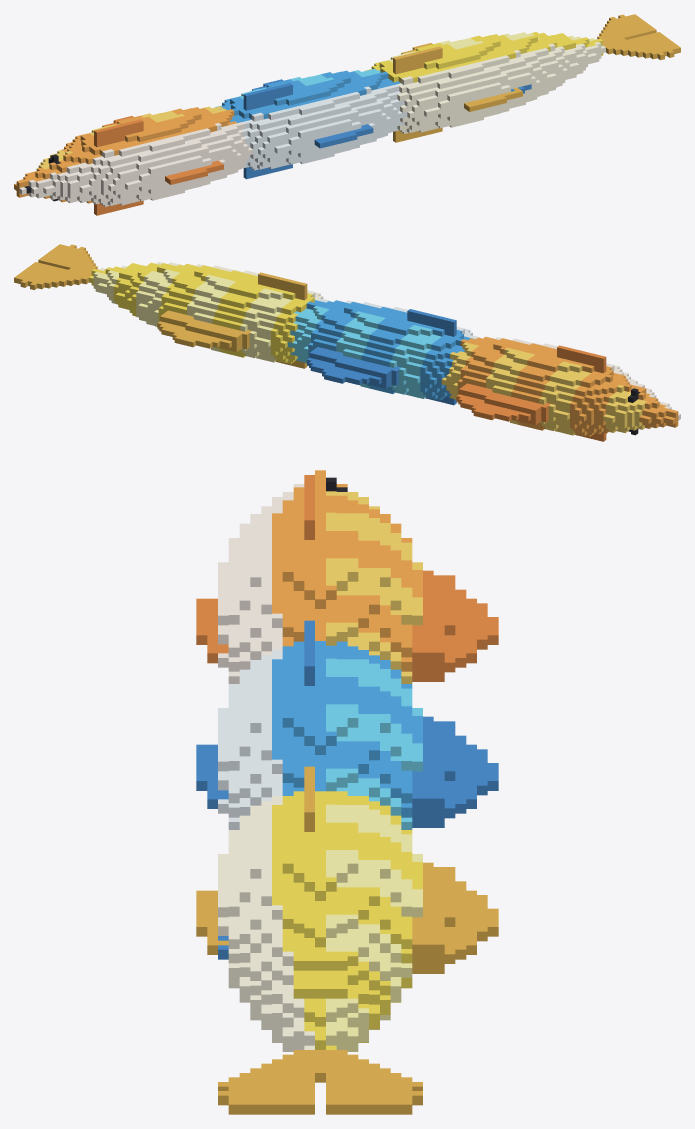
The model's file is voxel_fish_fine.glb.
3 renders of one model, top to bottom at view 1: azimuth 30°, elevation 25°; view 2: azimuth 150°, elevation 25°; view 3: azimuth 270°, elevation 25°, orthographic. The views are drawn at different scales.
Visible parts, largest first — view 1: GEO-orange-belly, GEO-yellow-belly, GEO-blue-belly, GEO-yellow-fin, GEO-orange-body, GEO-yellow-body, GEO-blue-body, GEO-blue-fin, GEO-orange-fin, GEO-orange-stripe, GEO-yellow-stripe, GEO-blue-stripe; view 2: GEO-orange-body, GEO-yellow-body, GEO-blue-body, GEO-yellow-fin, GEO-orange-stripe, GEO-yellow-stripe, GEO-blue-stripe, GEO-orange-fin, GEO-blue-fin, GEO-orange-belly, GEO-yellow-belly; view 3: GEO-yellow-body, GEO-yellow-fin, GEO-orange-body, GEO-blue-body, GEO-yellow-belly, GEO-yellow-stripe, GEO-blue-fin, GEO-orange-fin, GEO-orange-belly, GEO-blue-belly, GEO-orange-stripe, GEO-blue-stripe.
Part boxes in pixels (<box>): GEO-orange-belly: <box>19,122,253,206</box>; GEO-yellow-belly: <box>397,42,605,133</box>; GEO-blue-belly: <box>241,84,407,170</box>; GEO-yellow-fin: <box>390,14,680,142</box>; GEO-orange-body: <box>14,107,237,204</box>; GEO-yellow-body: <box>365,32,603,131</box>; GEO-blue-body: <box>215,70,400,168</box>; GEO-blue-fin: <box>243,79,531,179</box>; GEO-orange-fin: <box>91,116,223,215</box>; GEO-orange-stripe: <box>36,106,226,170</box>; GEO-yellow-stripe: <box>384,32,595,62</box>; GEO-blue-stripe: <box>234,68,380,99</box>; GEO-orange-body: <box>457,336,678,436</box>; GEO-yellow-body: <box>89,262,314,363</box>; GEO-blue-body: <box>306,300,475,400</box>; GEO-yellow-fin: <box>14,244,307,368</box>; GEO-orange-stripe: <box>441,342,647,435</box>; GEO-yellow-stripe: <box>93,269,292,362</box>; GEO-blue-stripe: <box>287,306,441,398</box>; GEO-orange-fin: <box>456,345,606,441</box>; GEO-blue-fin: <box>307,309,456,405</box>; GEO-orange-belly: <box>472,336,680,420</box>; GEO-yellow-belly: <box>99,262,329,300</box>; GEO-yellow-body: <box>272,791,422,1049</box>; GEO-yellow-fin: <box>196,766,498,1114</box>; GEO-orange-body: <box>272,470,422,671</box>; GEO-blue-body: <box>272,641,422,817</box>; GEO-yellow-belly: <box>218,796,314,1051</box>; GEO-yellow-stripe: <box>326,804,422,1051</box>; GEO-blue-fin: <box>196,620,498,959</box>; GEO-orange-fin: <box>196,475,498,681</box>; GEO-orange-belly: <box>218,484,304,683</box>; GEO-blue-belly: <box>218,650,282,829</box>; GEO-orange-stripe: <box>326,491,422,683</box>; GEO-blue-stripe: <box>326,658,422,829</box>.
Size of the model in its own units: 6.85 by 0.85 by 1.4.
